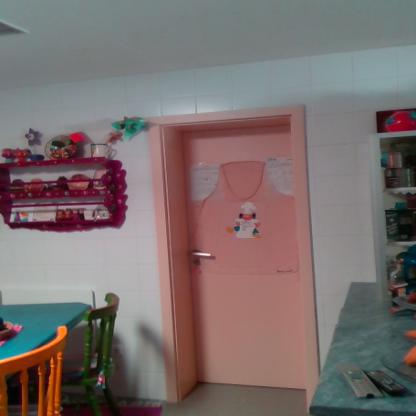door: (181, 133, 308, 386)
lever: (190, 249, 216, 260)
